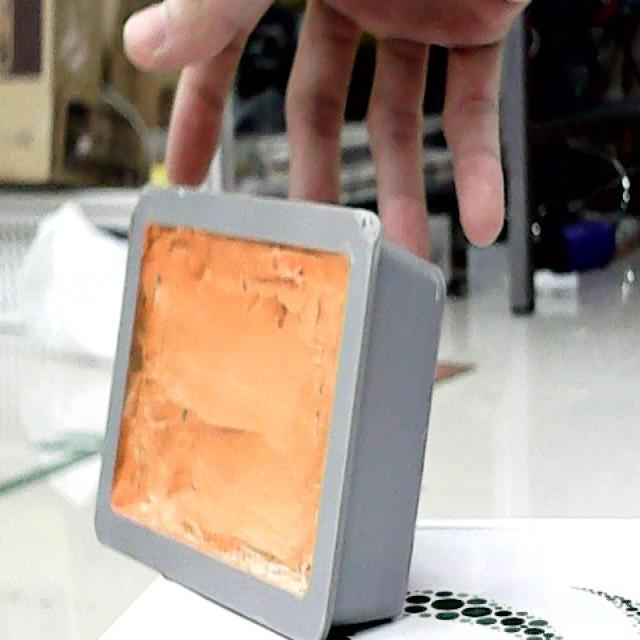block: (93, 181, 452, 640)
